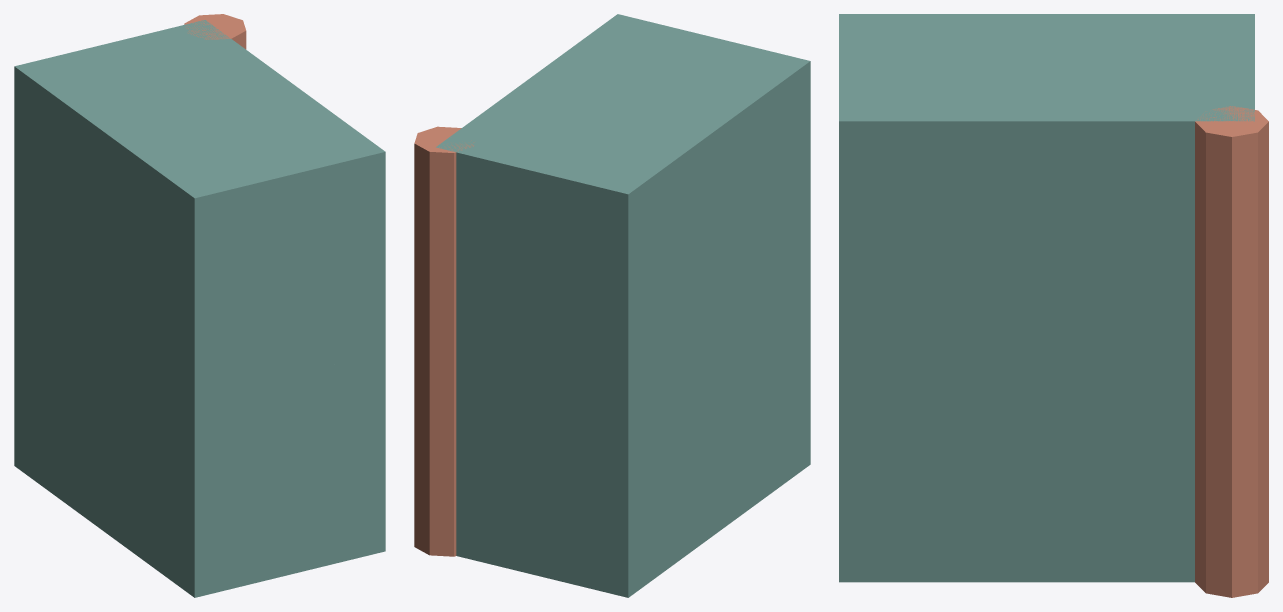
File: TH_Tile_10.fbx
3 renders of one model, left to right at view 1: azimuth 30°, elevation 25°; view 2: azimuth 150°, elevation 25°; view 3: azimuth 270°, elevation 25°, orthographic. The views are drawn at different scales.
Visible parts, largest first — view 1: TH_Tile_10; view 2: TH_Tile_10; view 3: TH_Tile_10.
Part boxes in pixels (bbox=[...]): TH_Tile_10: bbox=[14, 14, 385, 597]; TH_Tile_10: bbox=[414, 14, 810, 597]; TH_Tile_10: bbox=[839, 14, 1268, 597].
Bounding box in the file's own units: 0.63 × 1.1 × 0.93.
